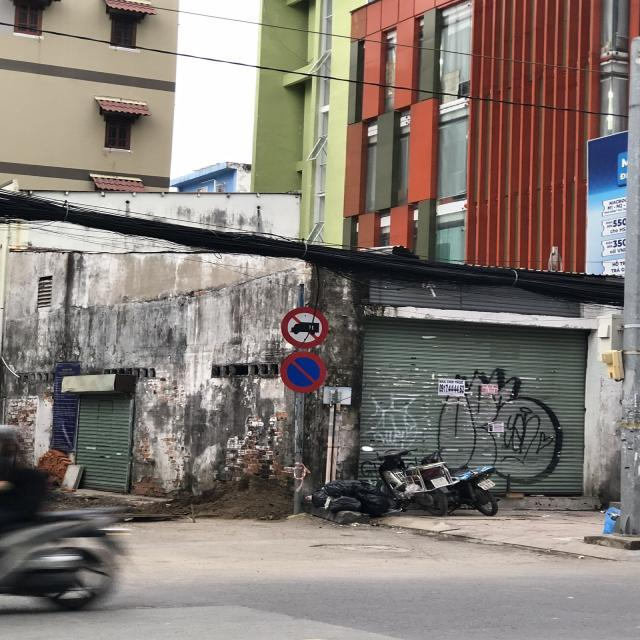Bien bao cam do xe: (278, 349, 333, 394)
Bien bao cam xe oto tai: (280, 304, 327, 347)
